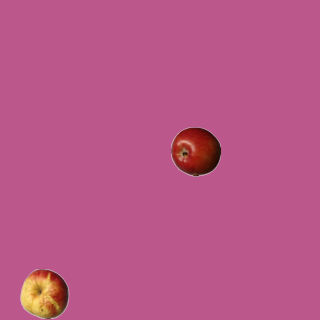Apple Braeburn: (170, 126, 220, 176)
Apple Red Yellow 1: (19, 268, 69, 318)
